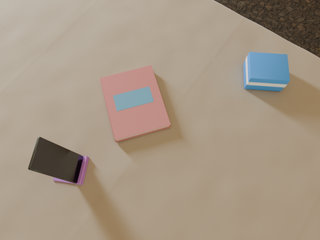book: (100, 65, 171, 142)
box: (243, 52, 290, 91)
phone: (28, 137, 83, 183)
